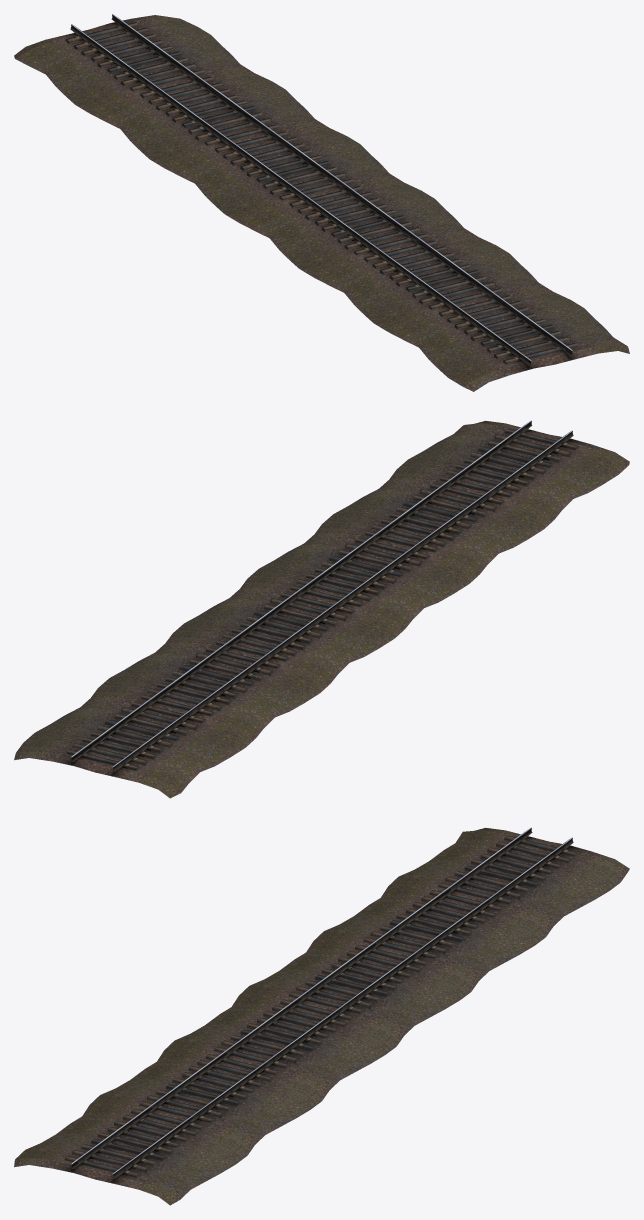
The model's file is 1track_30_der_TSM.gltf.
3 views of the same model, one above another, from view 1: azimuth 30°, elevation 25°; view 2: azimuth 150°, elevation 25°; view 3: azimuth 330°, elevation 25° (orthographic).
Size of the model in its own units: 6.7 by 0.6438 by 30.8.
1 material, 1 textured.
